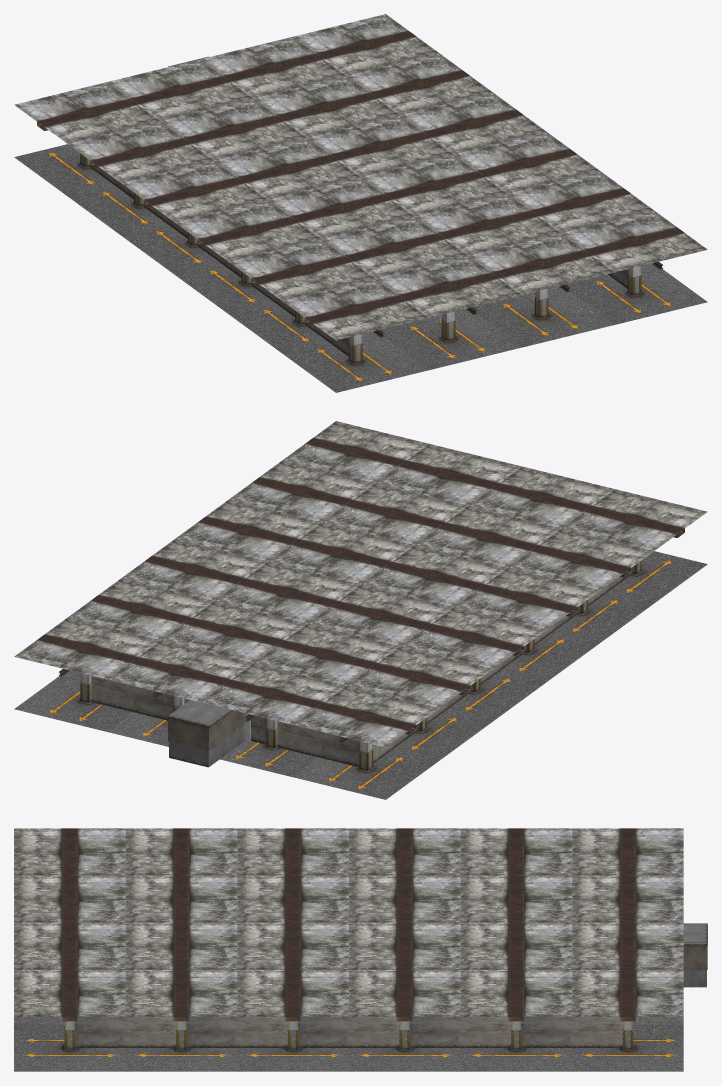
The picture shows the model from 3 angles, top to bottom: view 1: azimuth 30°, elevation 25°; view 2: azimuth 150°, elevation 25°; view 3: azimuth 270°, elevation 25°; orthographic projection. The views are drawn at different scales.
Visible parts, largest first — view 1: Cloner, wall; view 2: Cloner, asansor, Polygon_2, Polygon, wall; view 3: Cloner, wall, asansor.
Part boxes in pixels (x1,y1,x2,y2): Cloner: (14, 14, 707, 392); wall: (90, 160, 628, 356); Cloner: (14, 421, 707, 799); asansor: (168, 700, 250, 767); Polygon_2: (277, 721, 359, 766); Polygon: (91, 675, 173, 720); wall: (372, 567, 631, 763); Cloner: (14, 828, 683, 1071); wall: (74, 1017, 623, 1047); asansor: (683, 923, 707, 987).
Bounding box in the file's own units: 28 × 3.82 × 43.52.
10 materials, 10 textured.
